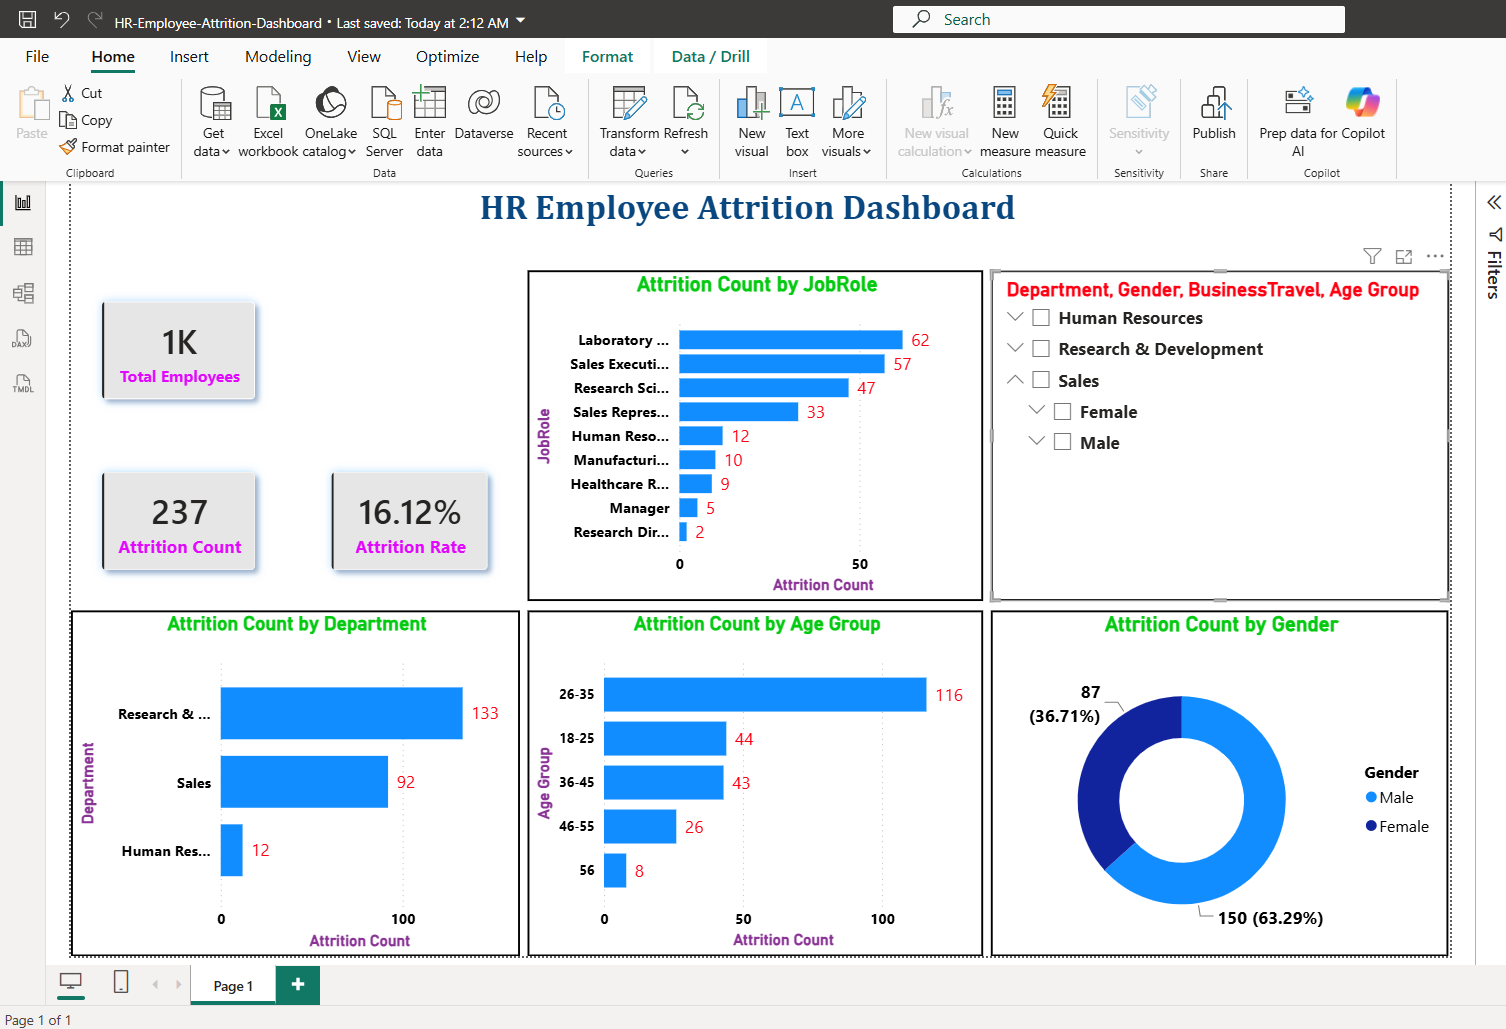

The page's visual inventory and layout, read from the dashboard file:
{"tool":"powerbi","page":{"name":"Page 1","canvas":[1280,720],"ordinal":0},"visuals":[{"type":"cardVisual","fields":{"Data":["HR-Employee-Attrition.Total Employees"]},"box":[0,82.8,200.7,149.3],"z":0},{"type":"cardVisual","fields":{"Data":["HR-Employee-Attrition.Attrition Count"]},"box":[0,240.8,200.7,149.3],"z":1000},{"type":"cardVisual","fields":{"Data":["HR-Employee-Attrition.Attrition Rate"]},"box":[213.2,240.8,203.2,149.3],"z":2000},{"type":"clusteredBarChart","title":"Attrition Count by Department","fields":{"Category":["HR-Employee-Attrition.Department"],"Y":["HR-Employee-Attrition.Attrition Count"]},"box":[0,398.5,416.4,321.1],"z":3000},{"type":"clusteredBarChart","title":"Attrition Count by Age Group","fields":{"Category":["HR-Employee-Attrition.Age Group"],"Y":["HR-Employee-Attrition.Attrition Count"]},"box":[424.3,398.5,423.3,320.9],"z":4000},{"type":"clusteredBarChart","title":"Attrition Count by JobRole","fields":{"Category":["HR-Employee-Attrition.JobRole"],"Y":["HR-Employee-Attrition.Attrition Count"]},"box":[424.3,82.9,423.3,306.9],"z":5000},{"type":"donutChart","title":"Attrition Count  by Gender","fields":{"Category":["HR-Employee-Attrition.Gender"],"Y":["HR-Employee-Attrition.Attrition Count"]},"box":[854.2,398.9,425.2,321.1],"z":6000},{"type":"slicer","fields":{"Values":["HR-Employee-Attrition.Department","HR-Employee-Attrition.Gender","HR-Employee-Attrition.BusinessTravel","HR-Employee-Attrition.Age Group"]},"box":[854.1,82.9,425.4,306.9],"z":7000},{"type":"textbox","box":[374.8,0,529.9,51.7],"z":8000}]}

Visuals, with their boxes on the page's 1280x720 design canvas (x1, y1, x2, y2). These are canvas units, not pixel positions in the 1506x1029 screenshot, which may show the page scaled, cropped or inside an application window:
cardVisual - HR-Employee-Attrition.Total Employees: [0, 83, 201, 232]
cardVisual - HR-Employee-Attrition.Attrition Count: [0, 241, 201, 390]
cardVisual - HR-Employee-Attrition.Attrition Rate: [213, 241, 416, 390]
"Attrition Count by Department" clusteredBarChart: [0, 398, 416, 720]
"Attrition Count by Age Group" clusteredBarChart: [424, 398, 848, 719]
"Attrition Count by JobRole" clusteredBarChart: [424, 83, 848, 390]
"Attrition Count  by Gender" donutChart: [854, 399, 1279, 720]
slicer - HR-Employee-Attrition.Department x HR-Employee-Attrition.Gender: [854, 83, 1280, 390]
textbox: [375, 0, 905, 52]
